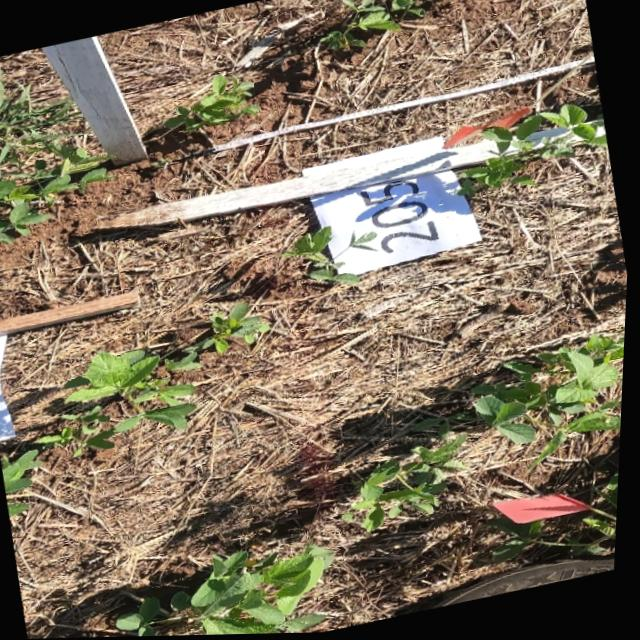grassy_weed: (0, 71, 78, 176)
soy_plant: (6, 304, 270, 494), (122, 546, 337, 637), (478, 337, 628, 456), (463, 105, 609, 195), (350, 439, 469, 532), (0, 146, 111, 242), (166, 74, 260, 131), (325, 0, 427, 49), (285, 227, 361, 286), (589, 521, 621, 540), (354, 234, 377, 251), (12, 499, 31, 515)
